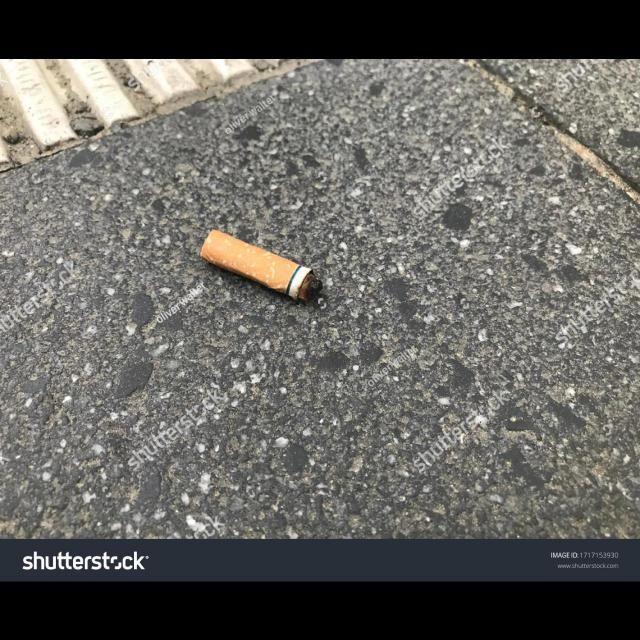cigarette: (201, 230, 323, 302)
